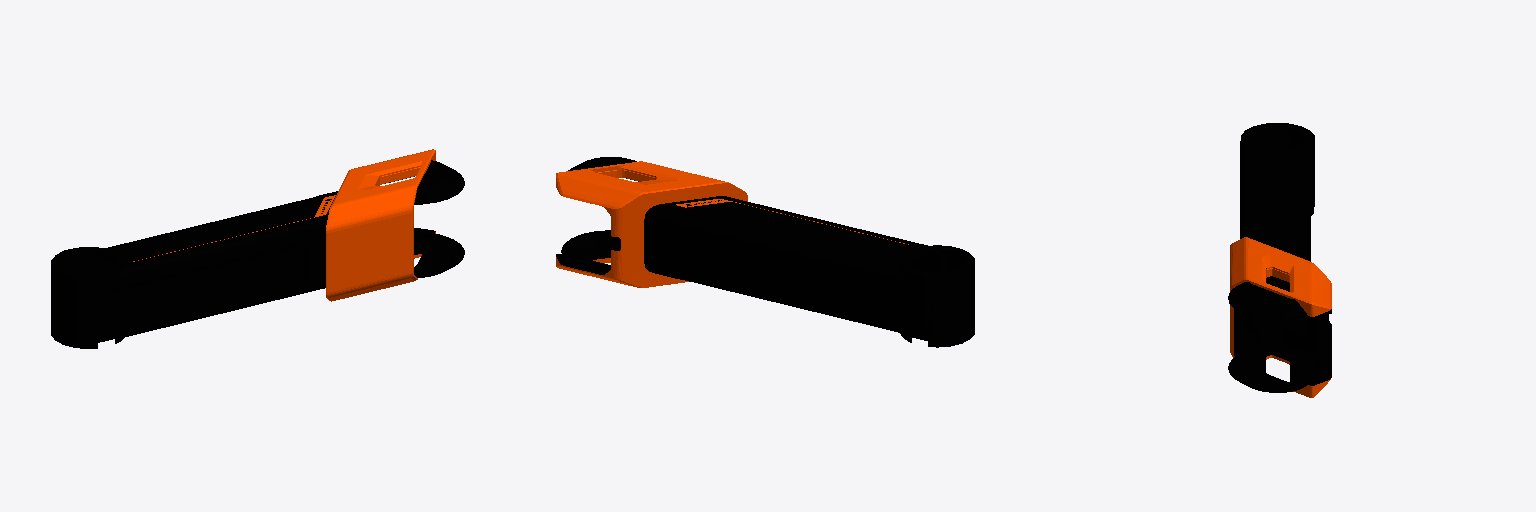
3 views of the same model, side by side, from view 1: azimuth 30°, elevation 25°; view 2: azimuth 150°, elevation 25°; view 3: azimuth 270°, elevation 25° (orthographic).
Visible parts, largest first — view 1: arm_link2; view 2: arm_link2; view 3: arm_link2.
Boxes of the visible parts, box(x1,y1,x2,y2) form: arm_link2: box(51, 149, 464, 348); arm_link2: box(556, 157, 974, 347); arm_link2: box(1228, 123, 1331, 397).
Size of the model in its own units: 0.3695 by 0.084 by 0.0824.